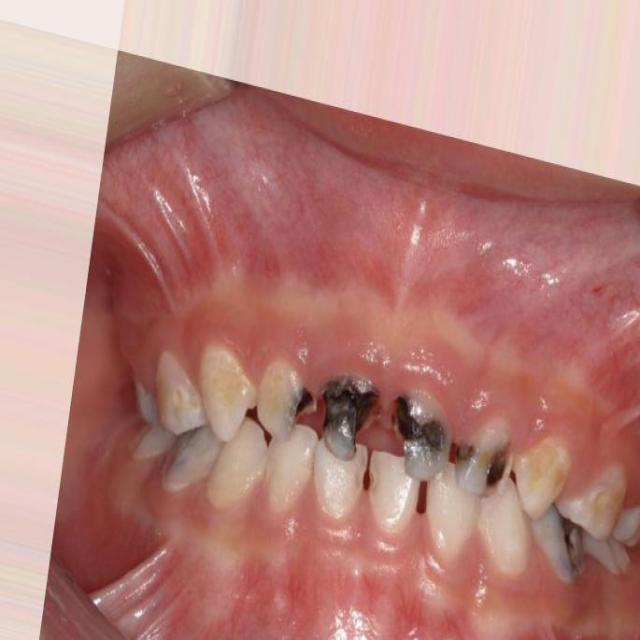caries: (388, 385, 448, 485), (253, 357, 317, 443), (451, 416, 513, 504), (318, 370, 376, 464), (540, 503, 587, 583)
